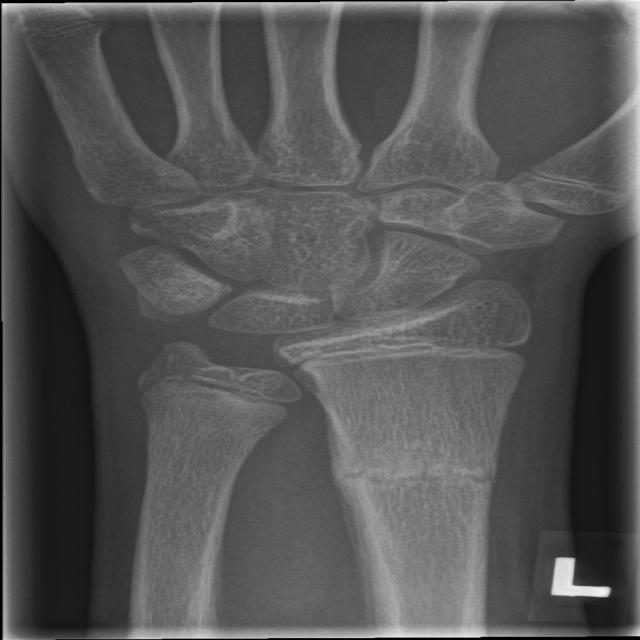radius fracture: (296, 382, 512, 587)
